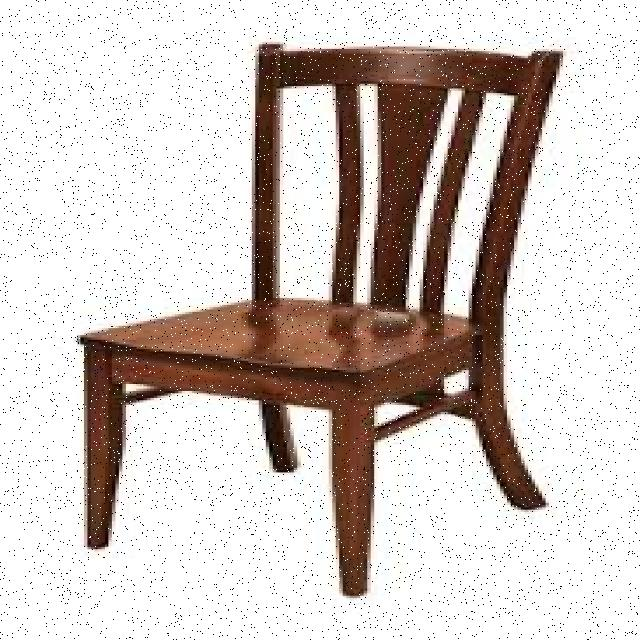bottle: (62, 40, 566, 597)
